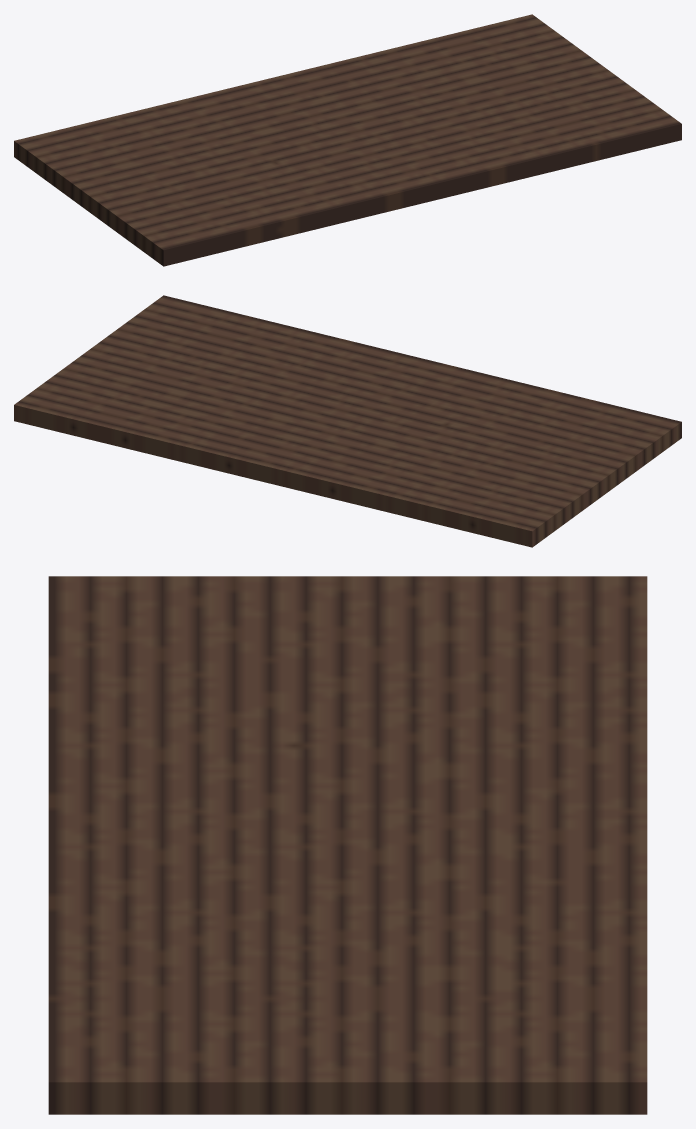
Rendered from Wall_A_00.fbx.
The picture shows the model from 3 angles, top to bottom: view 1: azimuth 30°, elevation 25°; view 2: azimuth 150°, elevation 25°; view 3: azimuth 270°, elevation 25°; orthographic projection. The views are drawn at different scales.
Visible parts, largest first — view 1: Wall_A_00; view 2: Wall_A_00; view 3: Wall_A_00.
Part boxes in pixels (box(x1,y1,x2,y2)): Wall_A_00: box(14, 14, 681, 266); Wall_A_00: box(14, 295, 681, 547); Wall_A_00: box(48, 576, 647, 1114).
Size of the model in its own units: 500 by 15 by 250.
